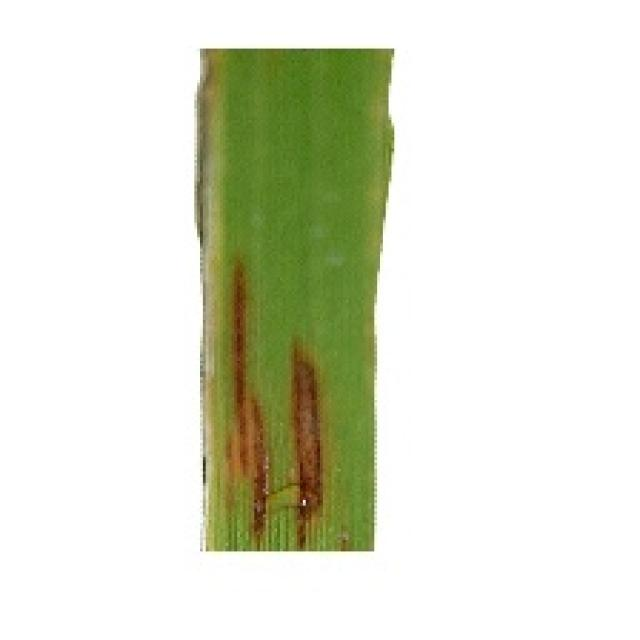Unhealthy: (225, 259, 270, 538), (291, 342, 323, 551)
